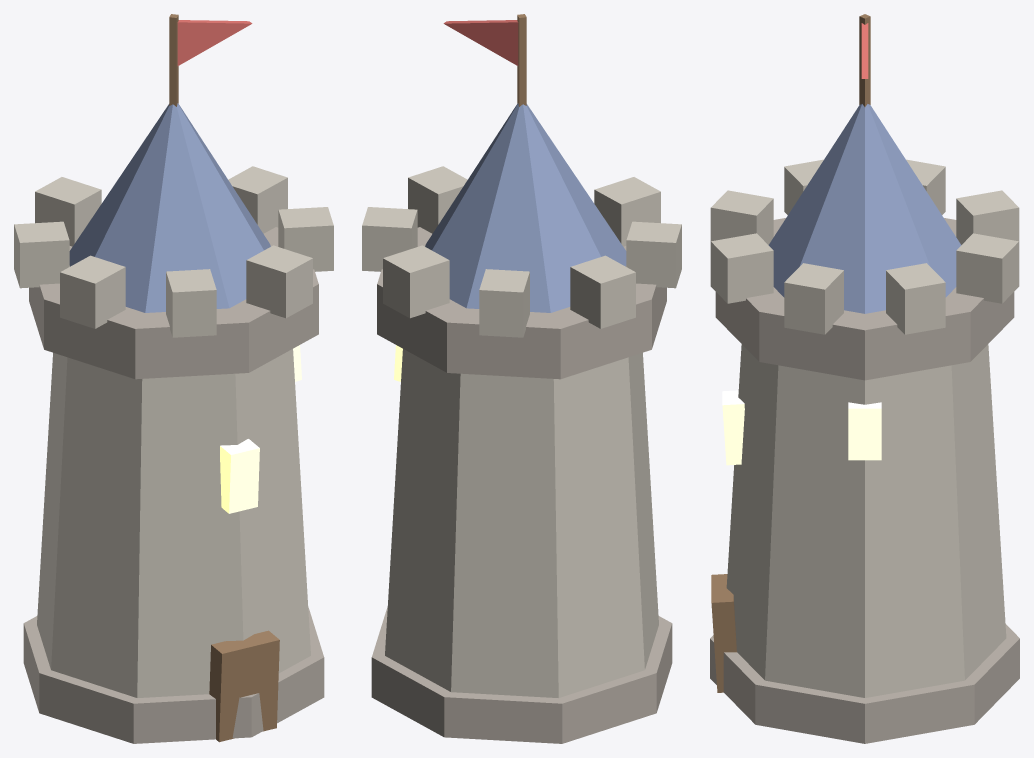
The model's file is tower.glb.
3 views of the same model, side by side, from view 1: azimuth 30°, elevation 25°; view 2: azimuth 150°, elevation 25°; view 3: azimuth 270°, elevation 25° (orthographic).
Visible parts, largest first — view 1: tower; view 2: tower; view 3: tower.
Boxes of the visible parts, x1=… form: tower: x1=14, y1=14, x2=333, y2=743; tower: x1=362, y1=14, x2=681, y2=743; tower: x1=710, y1=14, x2=1019, y2=743.
Bounding box in the file's own units: 0.28 × 0.6605 × 0.28.
